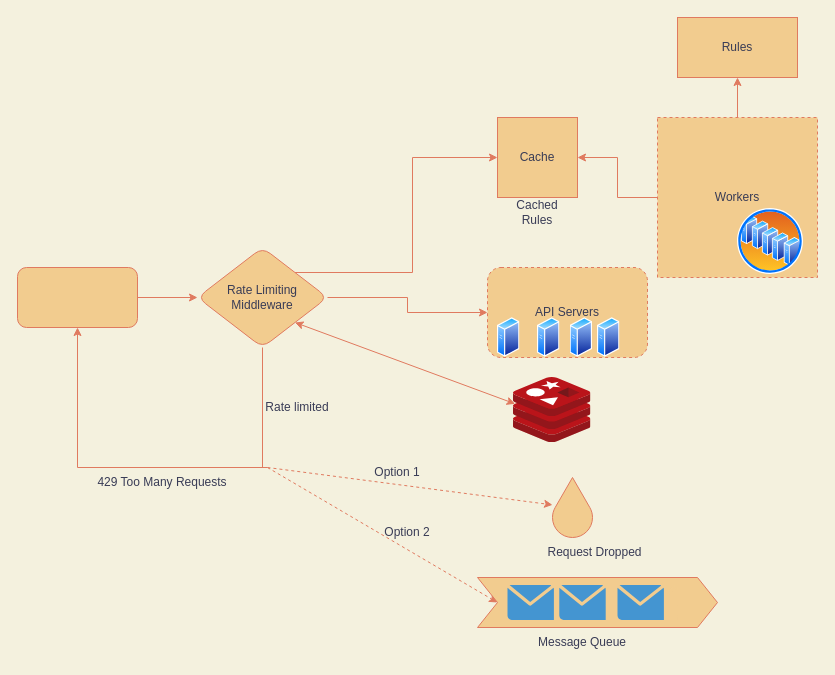
This 835x675 diagram has some shape labels left out. Each missing label, with the centre of its shape:
Client: (x=77, y=297)
Redis: (x=551, y=409)
